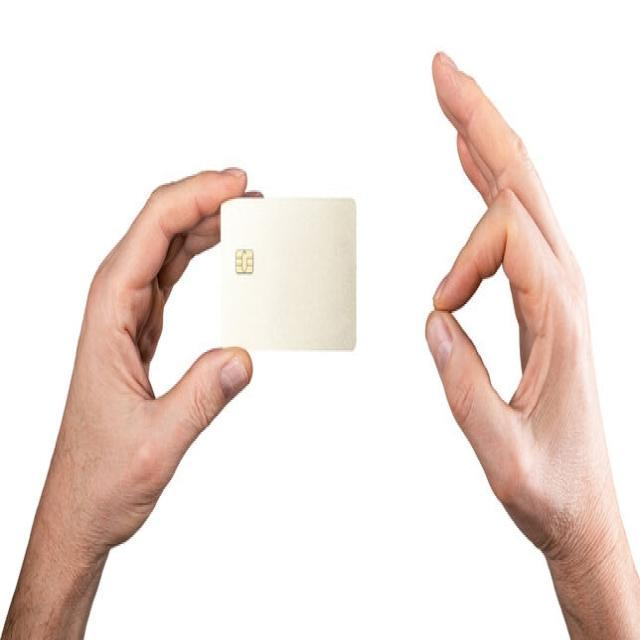payment_card: (217, 195, 357, 351)
